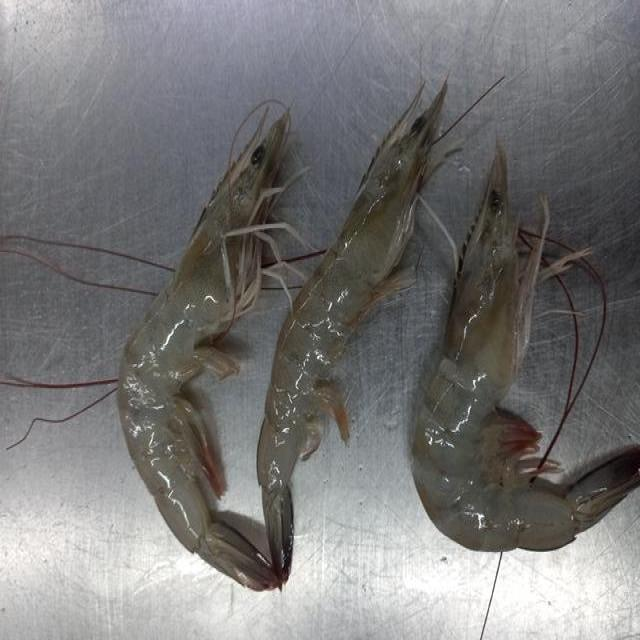shrimp: (258, 82, 448, 584), (412, 147, 640, 551), (118, 110, 290, 590)
